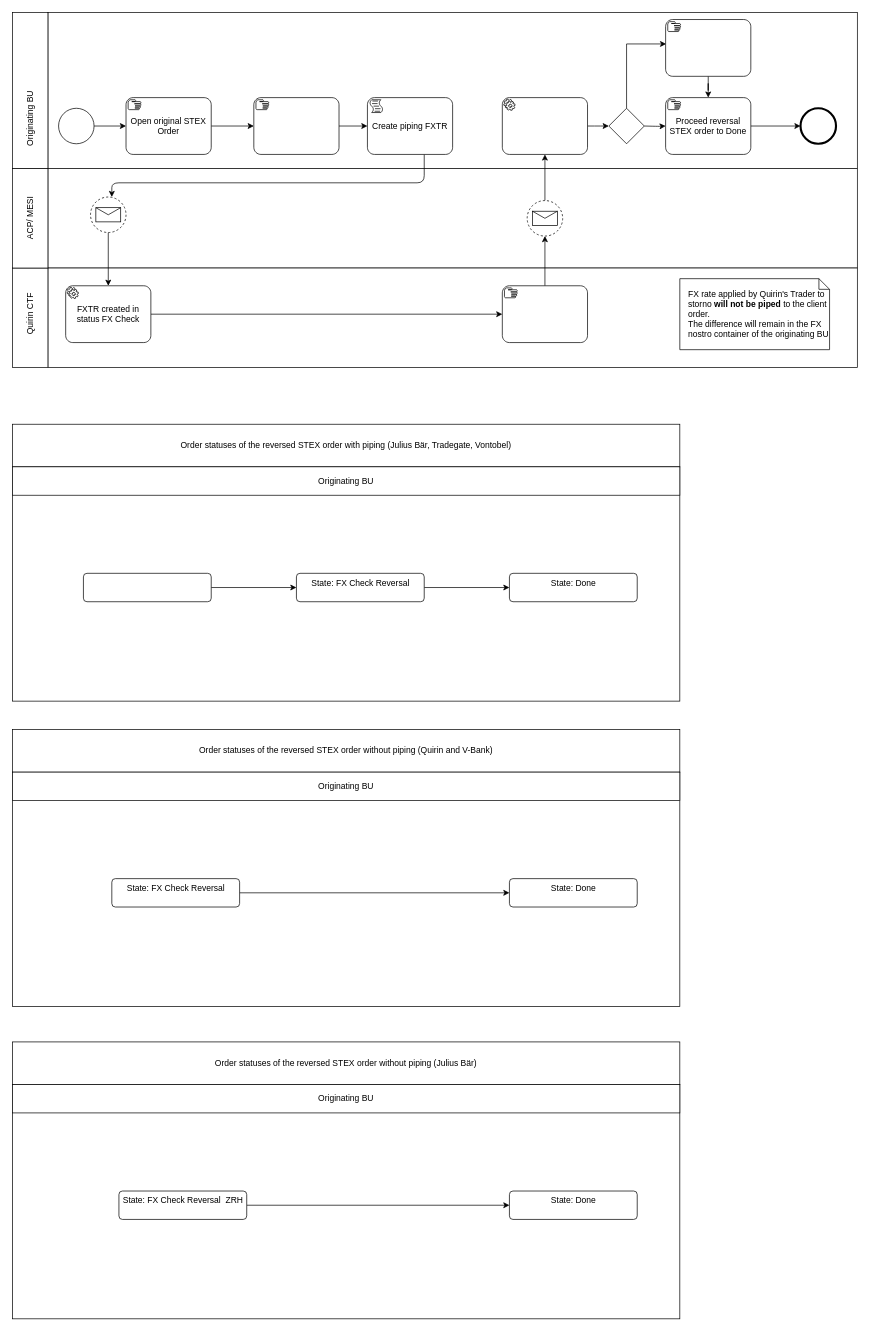
The diagram is 870 pixels wide and 1331 high, and some of its shapes have lost their labels. The centre of each missing label's shape, as x and y in pixels:
"Add P/L post-it to STEX order" goes at pixel 708 47.
"Create reversal" goes at pixel 296 125.
"Opent FXTR & assign FX rate" goes at pixel 545 314.
"State: FX Check Reversal CTF" goes at pixel 147 587.
"Update piping FXTR" goes at pixel 545 125.
